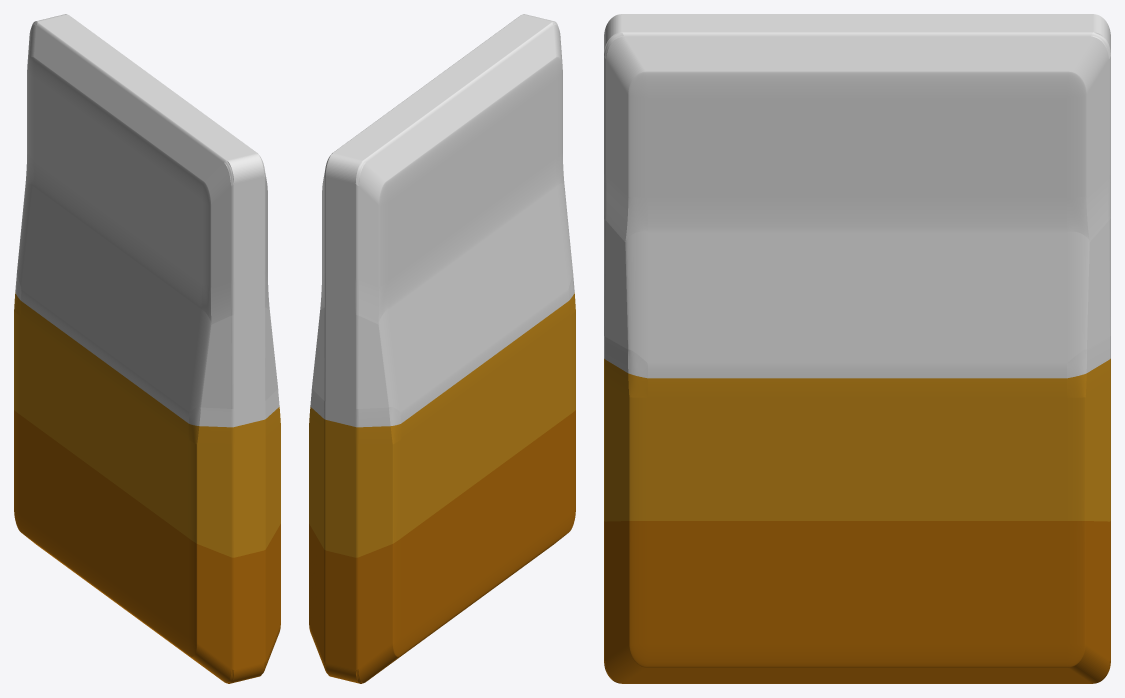
File: teabag.fbx
The picture shows the model from 3 angles, left to right: view 1: azimuth 30°, elevation 25°; view 2: azimuth 150°, elevation 25°; view 3: azimuth 270°, elevation 25°; orthographic projection. The views are drawn at different scales.
Visible parts, largest first — view 1: Cube; view 2: Cube; view 3: Cube.
Part boxes in pixels (bbox=[...]): Cube: bbox=[14, 14, 280, 683]; Cube: bbox=[309, 14, 575, 683]; Cube: bbox=[604, 14, 1110, 683].
Bounding box in the file's own units: 48.76 × 284 × 200.
